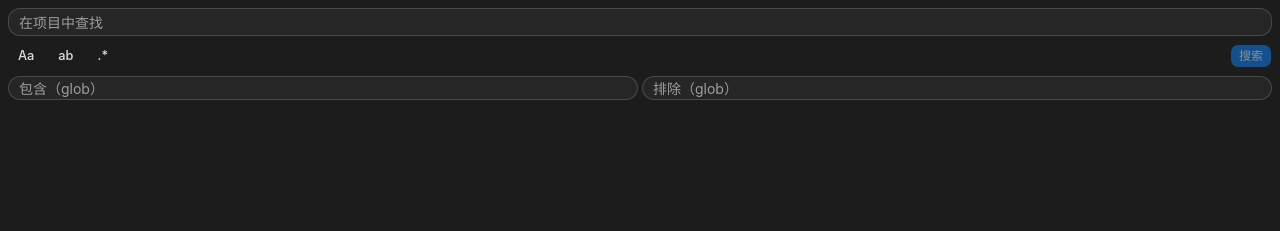
ProjectSearchPanel › appends the next page instead of re-running the first
Type "needle" into the field labelled "在项目中查找".
click(640, 22); type("needle")  # box top-left (8, 8), bottom-right (1272, 36)
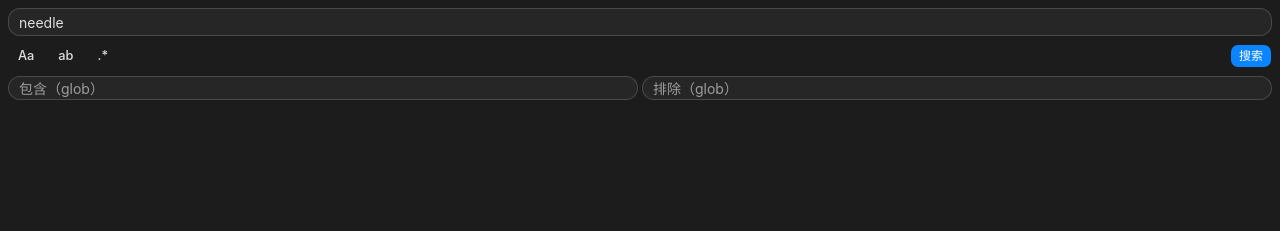
Click the button "搜索".
click(1251, 56)  # box top-left (1230, 44), bottom-right (1272, 68)
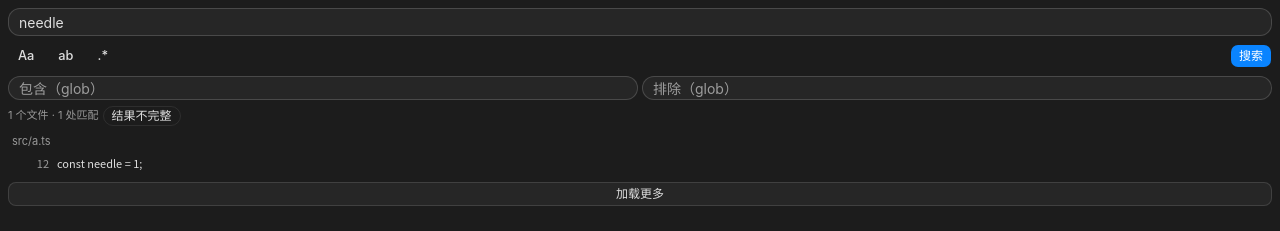
Click the button "加载更多".
click(640, 194)  # box top-left (8, 182), bottom-right (1272, 206)
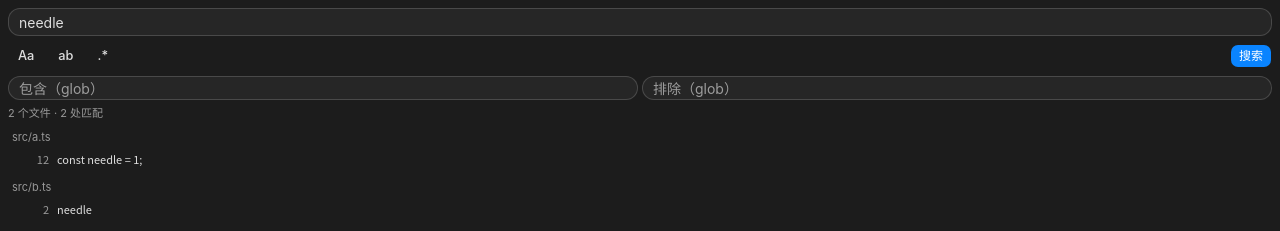
Now the text "src/a.ts" is shown, box top-left (12, 130), bottom-right (51, 144)
Now the text "src/b.ts" is shown, box top-left (12, 180), bottom-right (51, 194)
